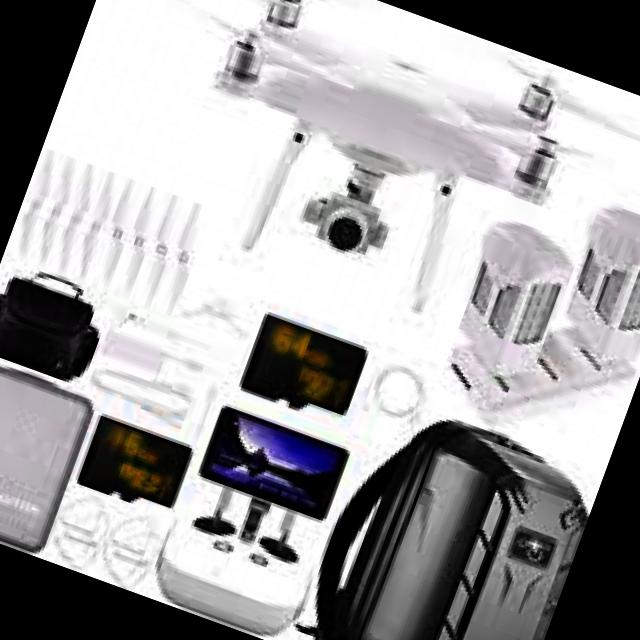drone: (84, 0, 624, 368)
